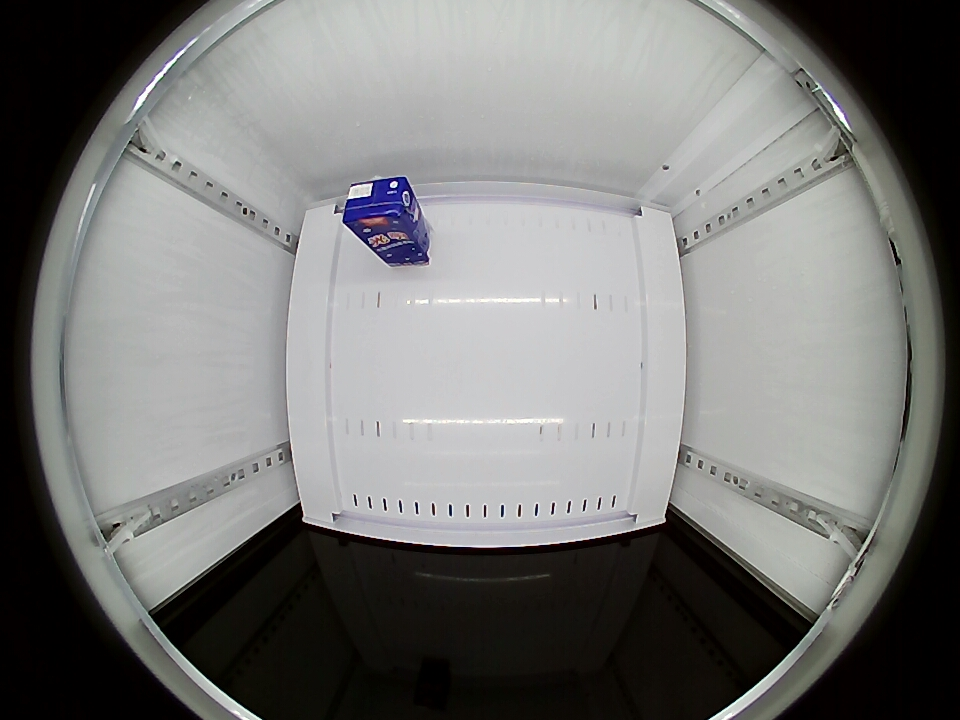bingqilinniunai: (340, 176, 417, 238)
